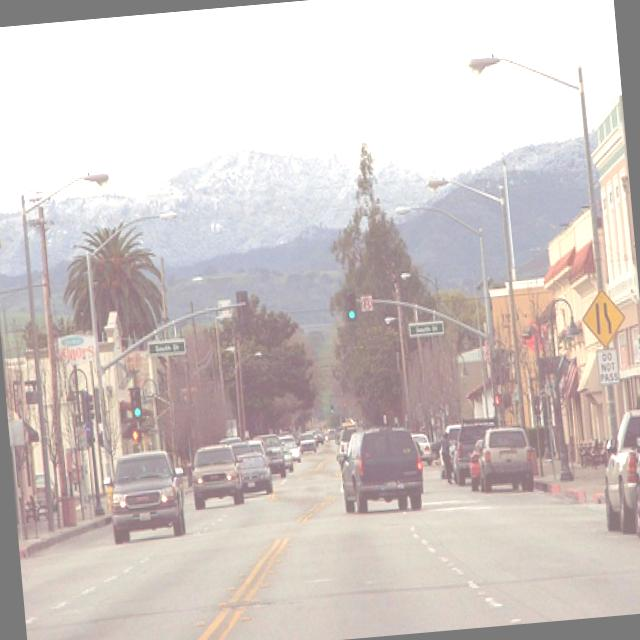Vehicle: (307, 405, 500, 506), (101, 448, 190, 546), (334, 424, 426, 516), (593, 408, 640, 534), (475, 424, 534, 496), (189, 444, 246, 511), (625, 409, 640, 540), (234, 450, 274, 498), (253, 432, 288, 480), (280, 436, 300, 464), (248, 440, 268, 466), (229, 441, 253, 458), (298, 432, 316, 454), (299, 432, 316, 454), (284, 442, 294, 473)
